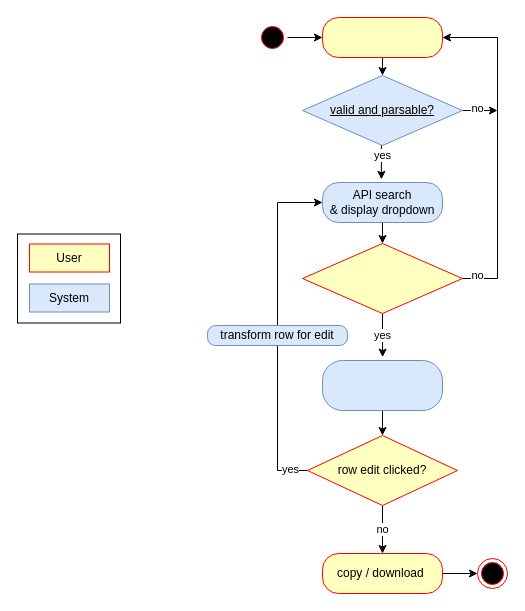
Some shapes in this 525 by 611 pixel diagram are drawn without their labels. The shapes that lost their labels are listed below. From the top down, each one's centre as x and y in pixels, then its label:
At (x=382, y=37): "user inputs search".
At (x=382, y=278): "dropdown entry selected?".
At (x=382, y=385): "transform item, display in table + map".
